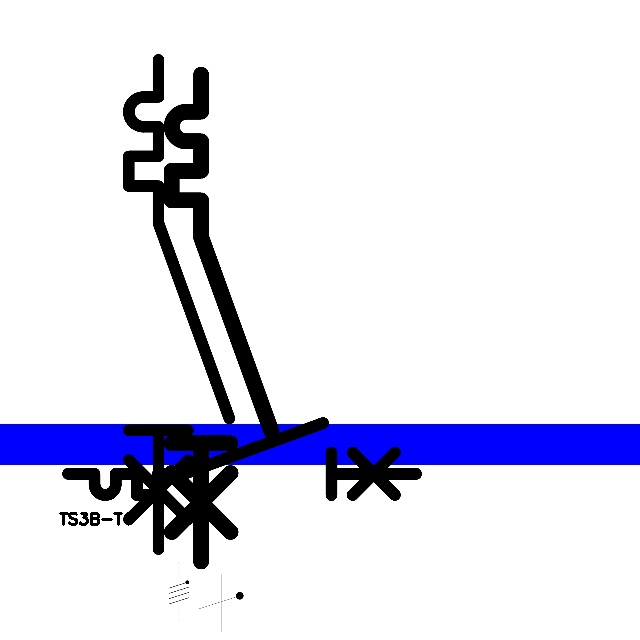interruptor_termomagnetico: (116, 47, 242, 562), (159, 62, 284, 573), (59, 414, 425, 504)
